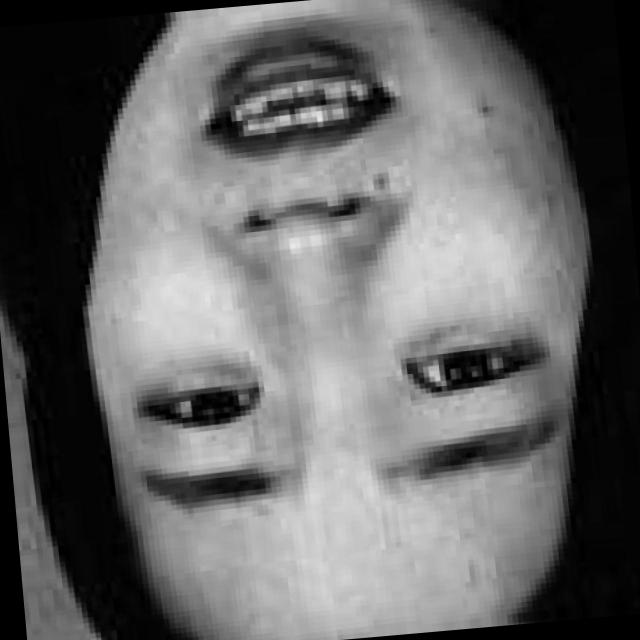fear: (64, 0, 587, 614)
